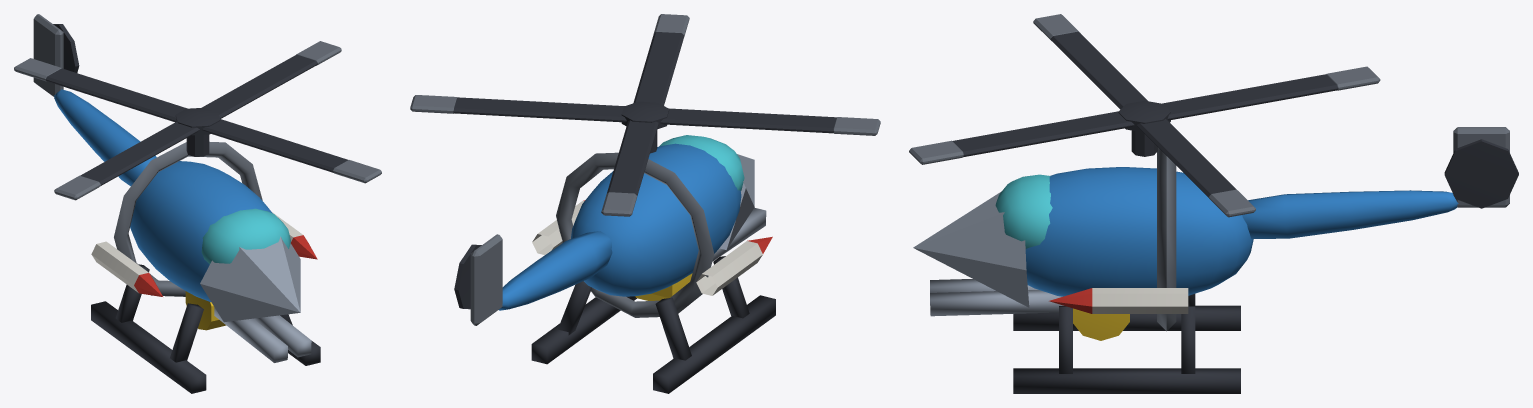
3 views of the same model, side by side, from view 1: azimuth 30°, elevation 25°; view 2: azimuth 150°, elevation 25°; view 3: azimuth 270°, elevation 25° (orthographic). The views are drawn at different scales.
Visible parts, largest first — view 1: heli_0_base, heli_1_torreta; view 2: heli_0_base, heli_1_torreta; view 3: heli_0_base, heli_1_torreta.
Boxes of the visible parts, x1,y1,x2,y2 form: heli_0_base: (33,14,320,393); heli_1_torreta: (14,41,381,200); heli_0_base: (454,135,775,393); heli_1_torreta: (410,14,880,216); heli_0_base: (913,127,1518,393); heli_1_torreta: (909,14,1380,217).
Size of the model in its own units: 1.08 by 0.632 by 1.39.
